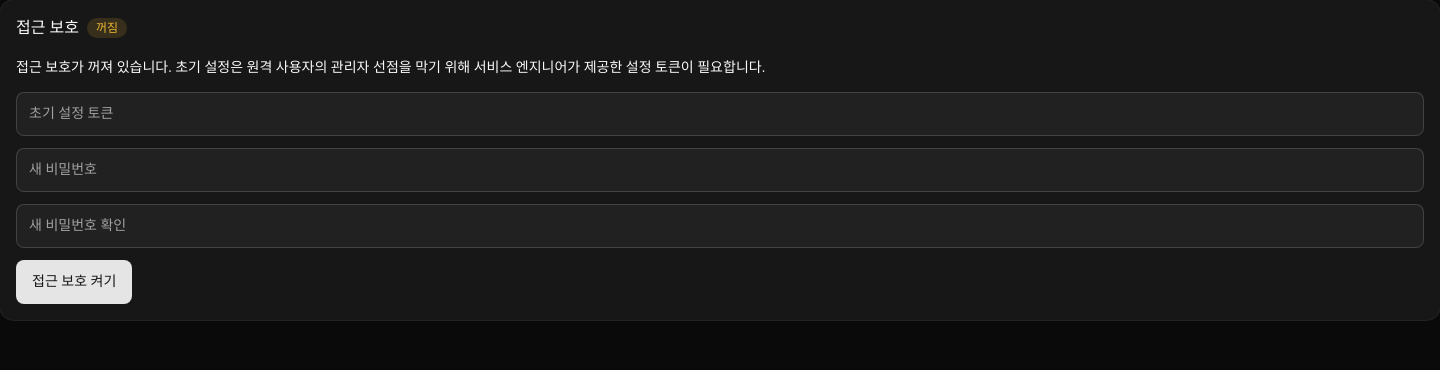
it: AccessProtectionSettings › requires a service token in open mode and submits protected setup
Check: the text "관리자 선점" is shown, box [16,60,765,75]
Type "setup-token-value" into the password field labelled "초기 설정 토큰" at (720, 114), box [16,92,1424,136]
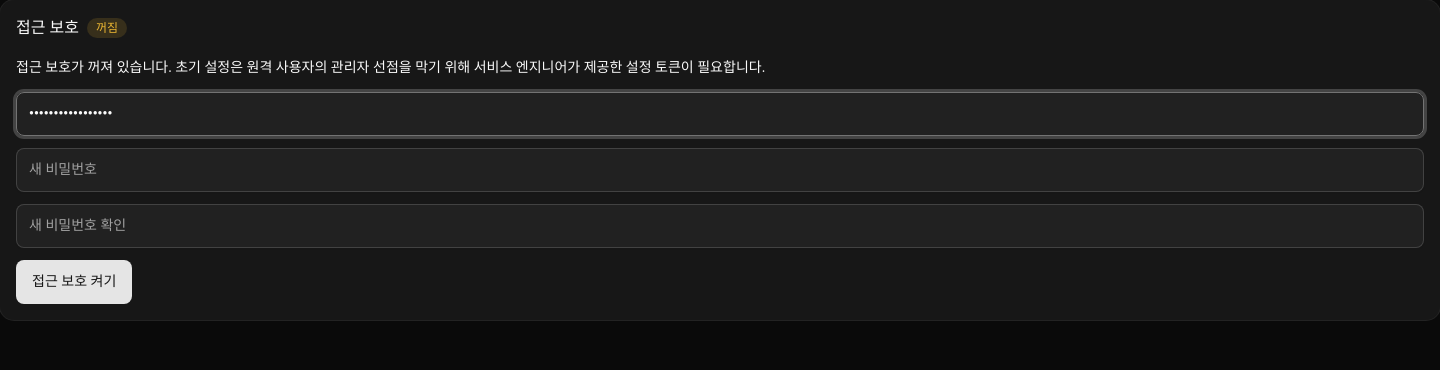
Type "new-password" into the password field labelled "새 비밀번호" at (720, 170), box [16,148,1424,192]
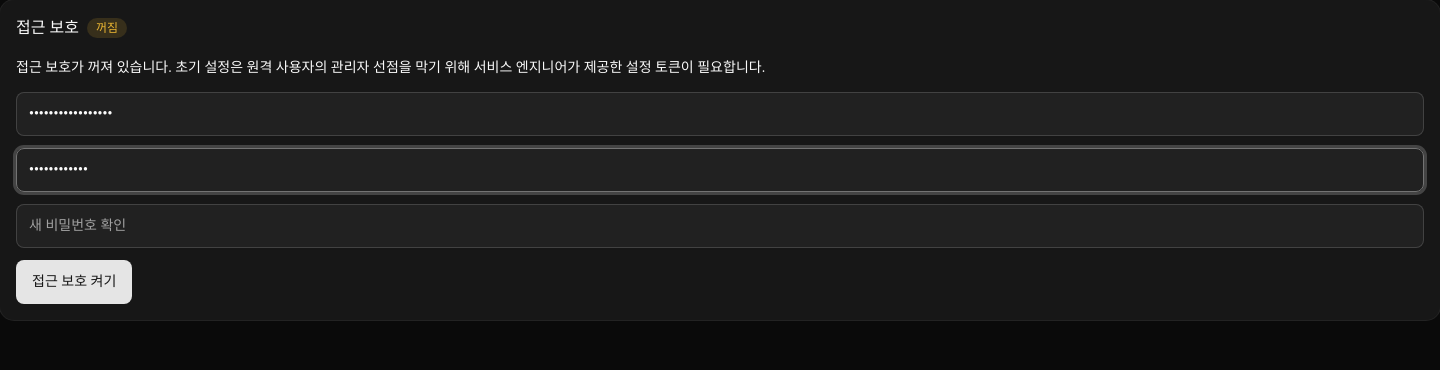
Type "new-password" into the password field labelled "새 비밀번호 확인" at (720, 226), box [16,204,1424,248]
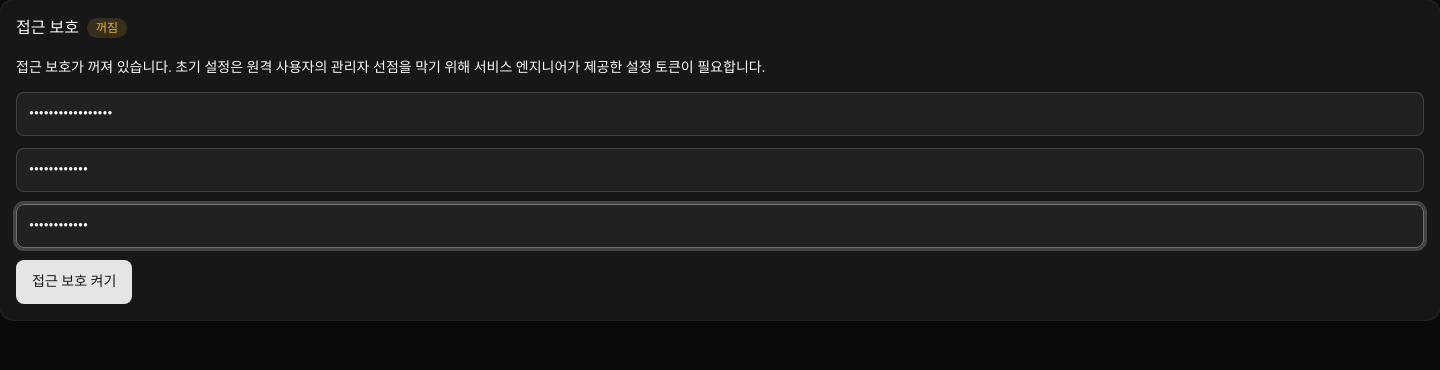
Click the button "접근 보호 켜기" at (74, 282), box [16,260,132,304]
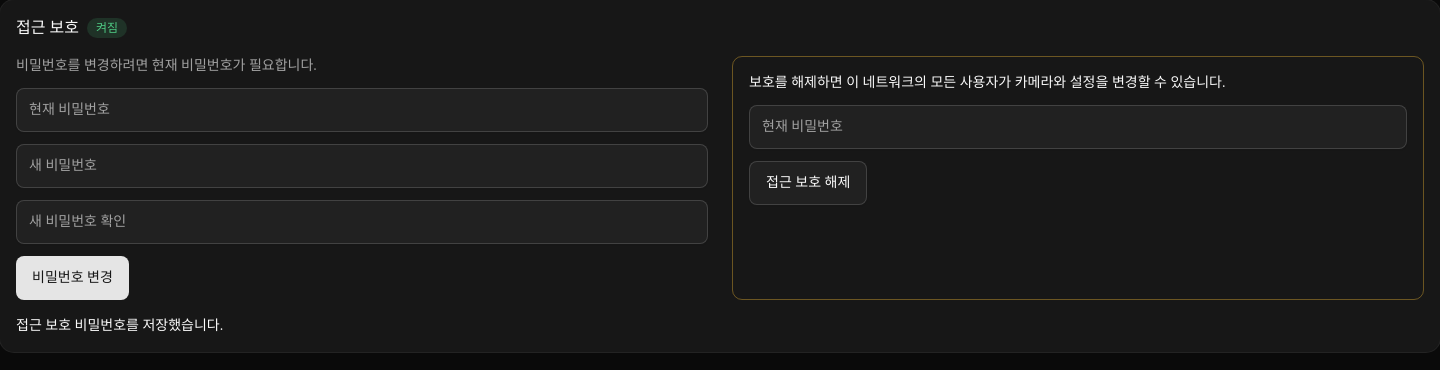
Check: the text "접근 보호 비밀번호를 저장했습니다." is shown, box [16,318,223,333]
